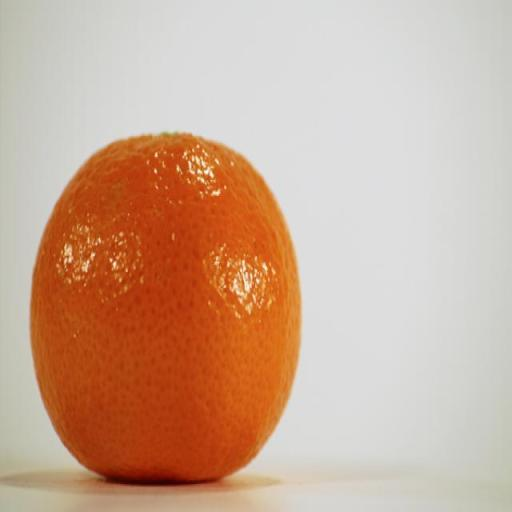fruit: (31, 134, 298, 480)
